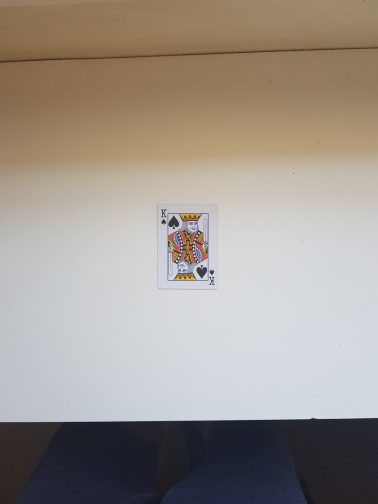king: (155, 202, 219, 291)
